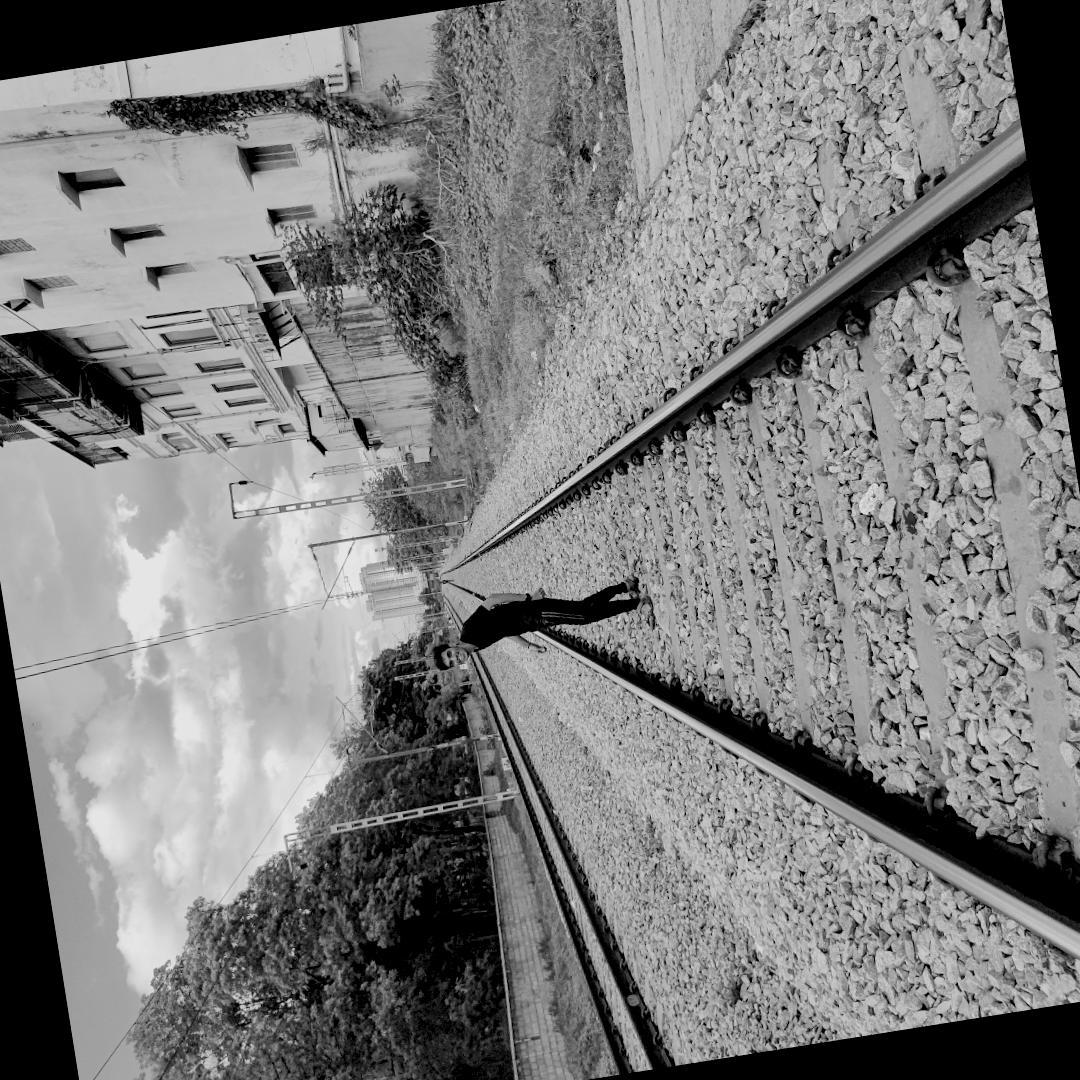standing: (418, 554, 666, 685)
